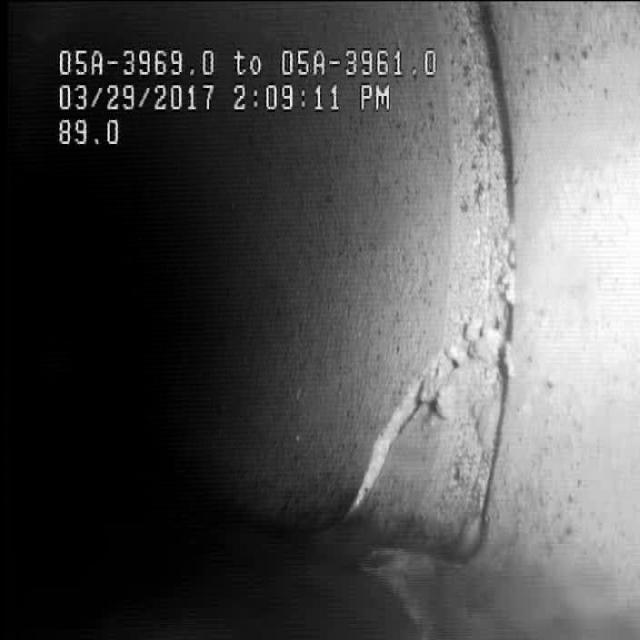Fracture: (342, 284, 504, 516)
